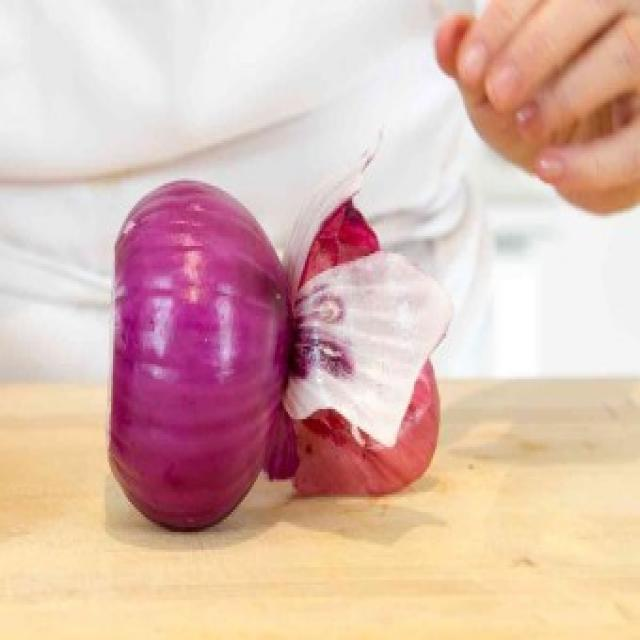Onion: (263, 130, 457, 497), (108, 178, 285, 530)
